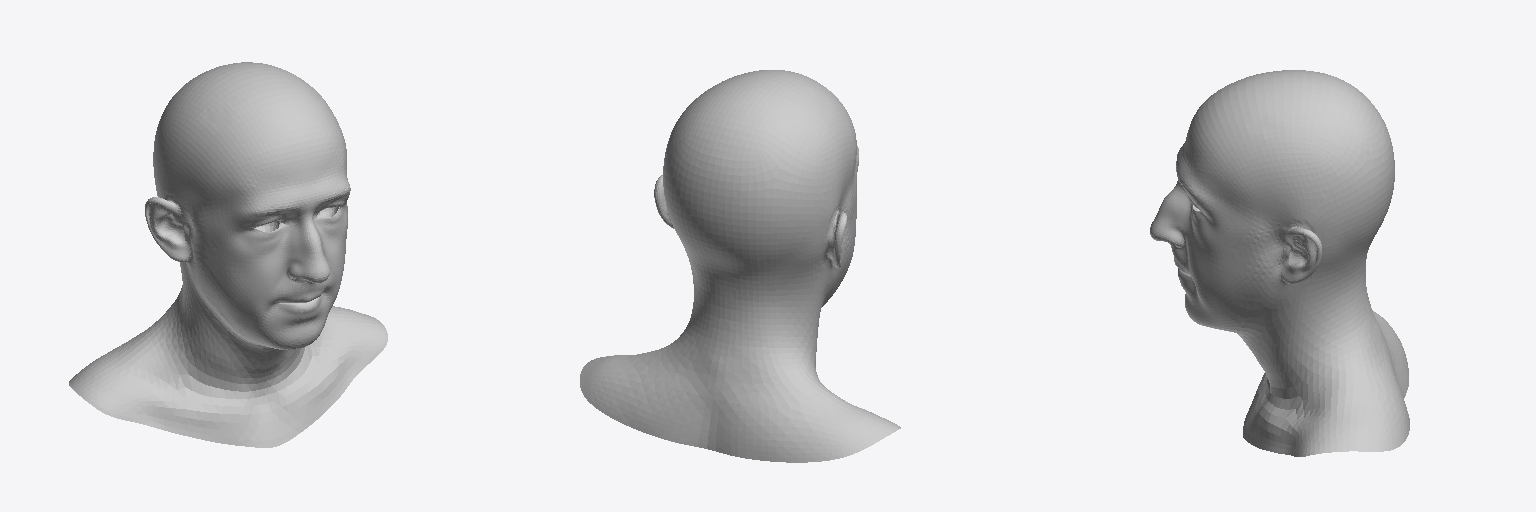
The model's file is 120_no_pose.obj.
3 views of the same model, side by side, from view 1: azimuth 30°, elevation 25°; view 2: azimuth 150°, elevation 25°; view 3: azimuth 270°, elevation 25° (orthographic).
Size of the model in its own units: 2.95 by 3.31 by 2.2.